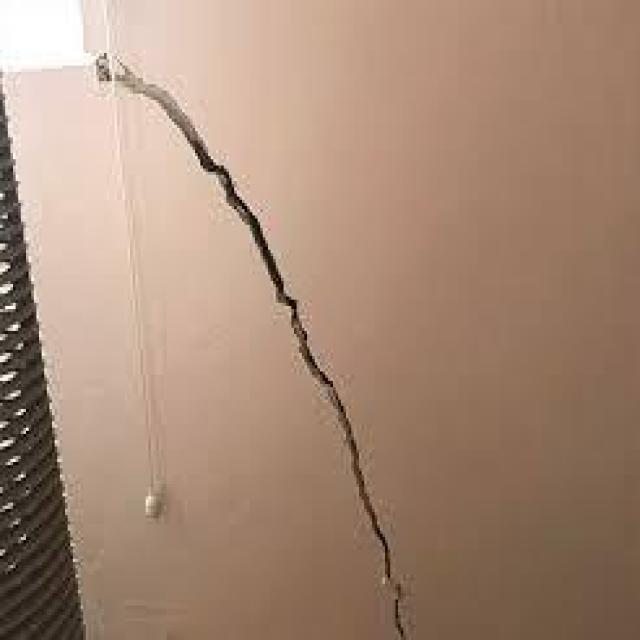Crack: (122, 69, 330, 384), (330, 384, 411, 634)
